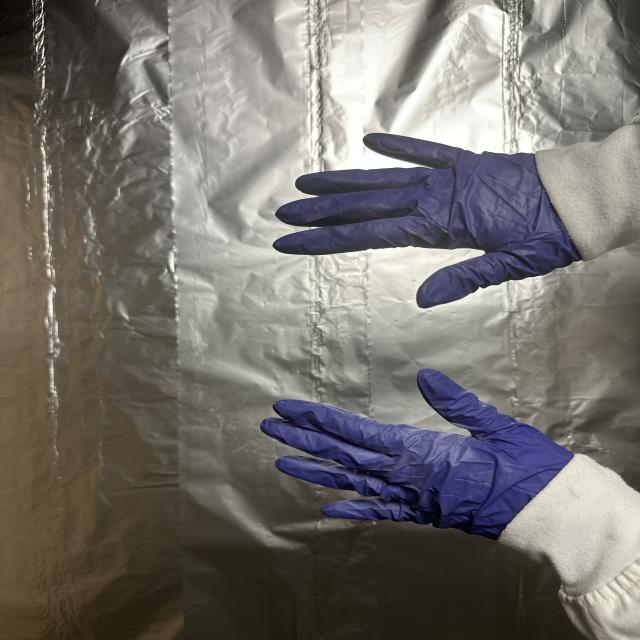gloves_contaminated: (273, 133, 582, 308)
